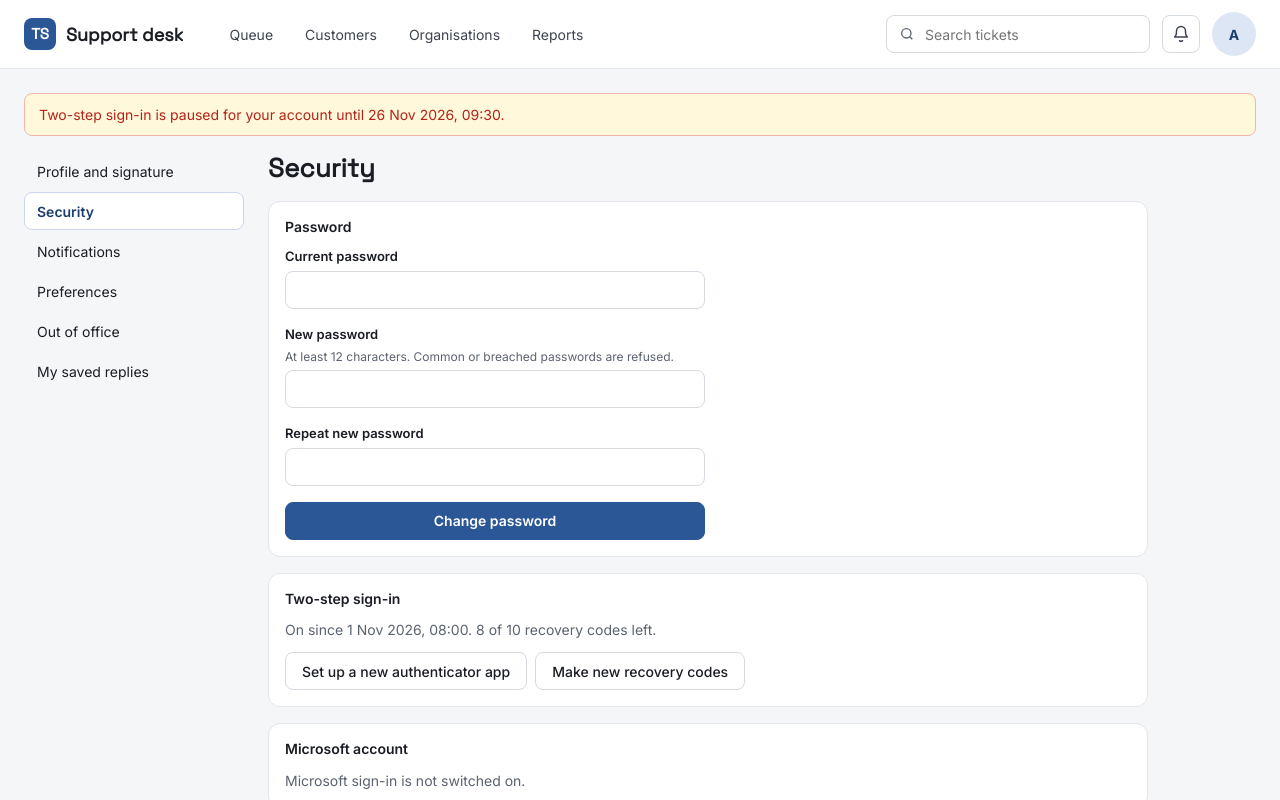
Test case: two-step sign-in › switches the step-up to a code when the pause ended while the dialog was open
Click the button "Make new recovery codes".
click(640, 671)  # box 535,652 -> 745,690
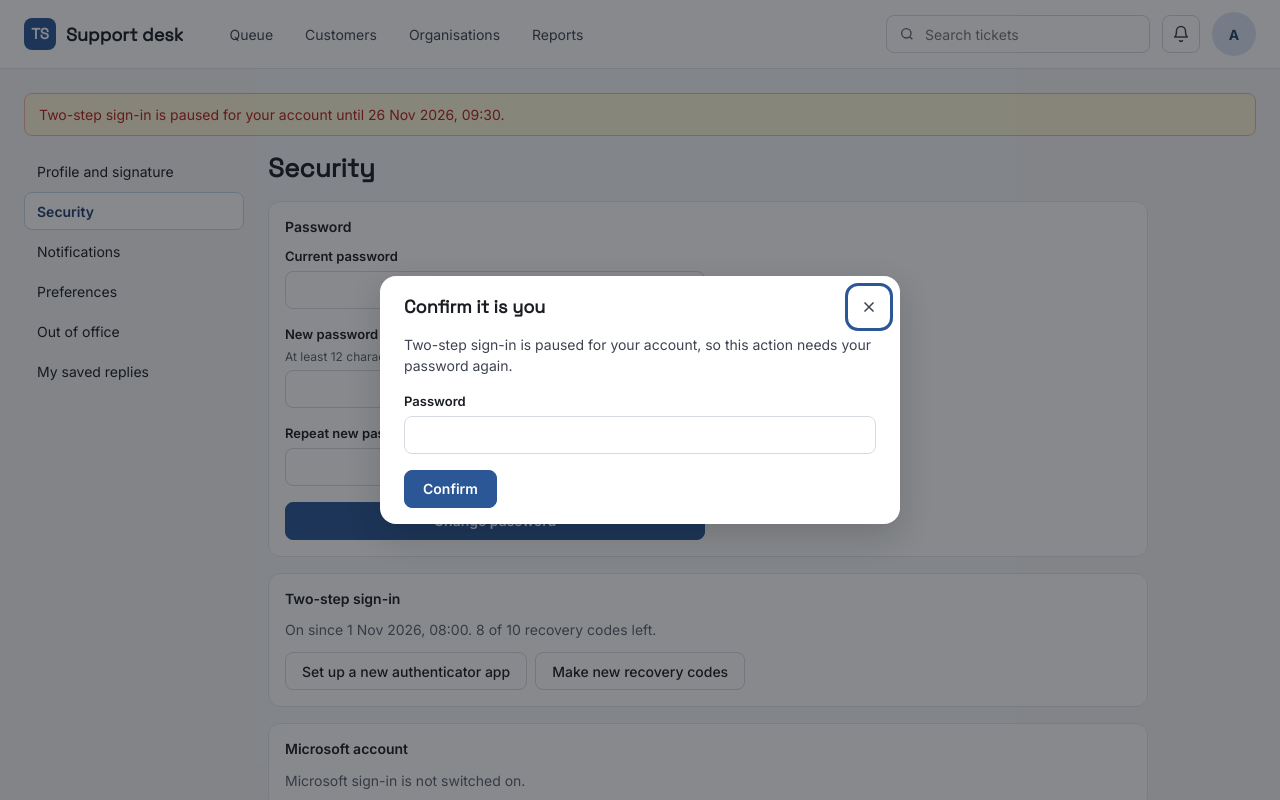
Type "Violet-Tractor-Sundial-42" into the password field labelled "Password".
click(640, 435); type("Violet-Tractor-Sundial-42")  # box 404,416 -> 876,454
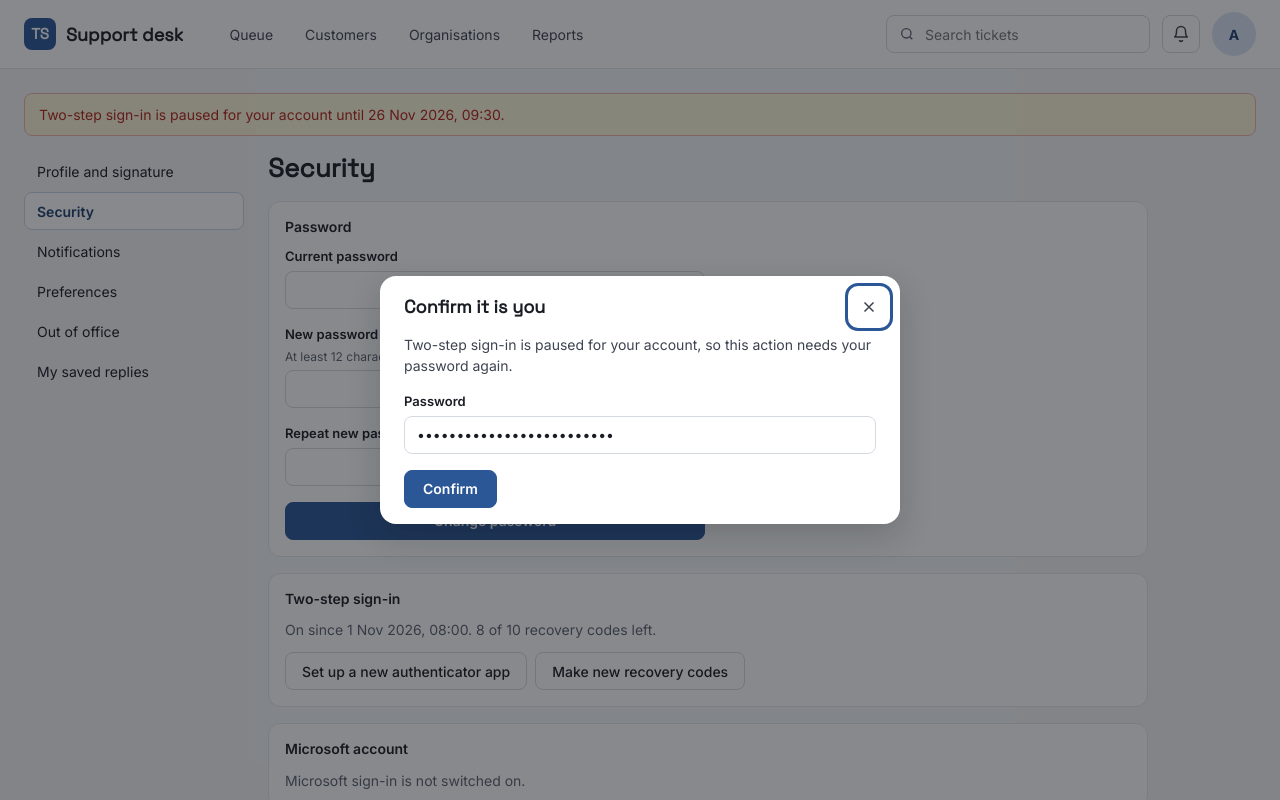
Click the button "Confirm".
click(450, 489)  # box 404,470 -> 497,508
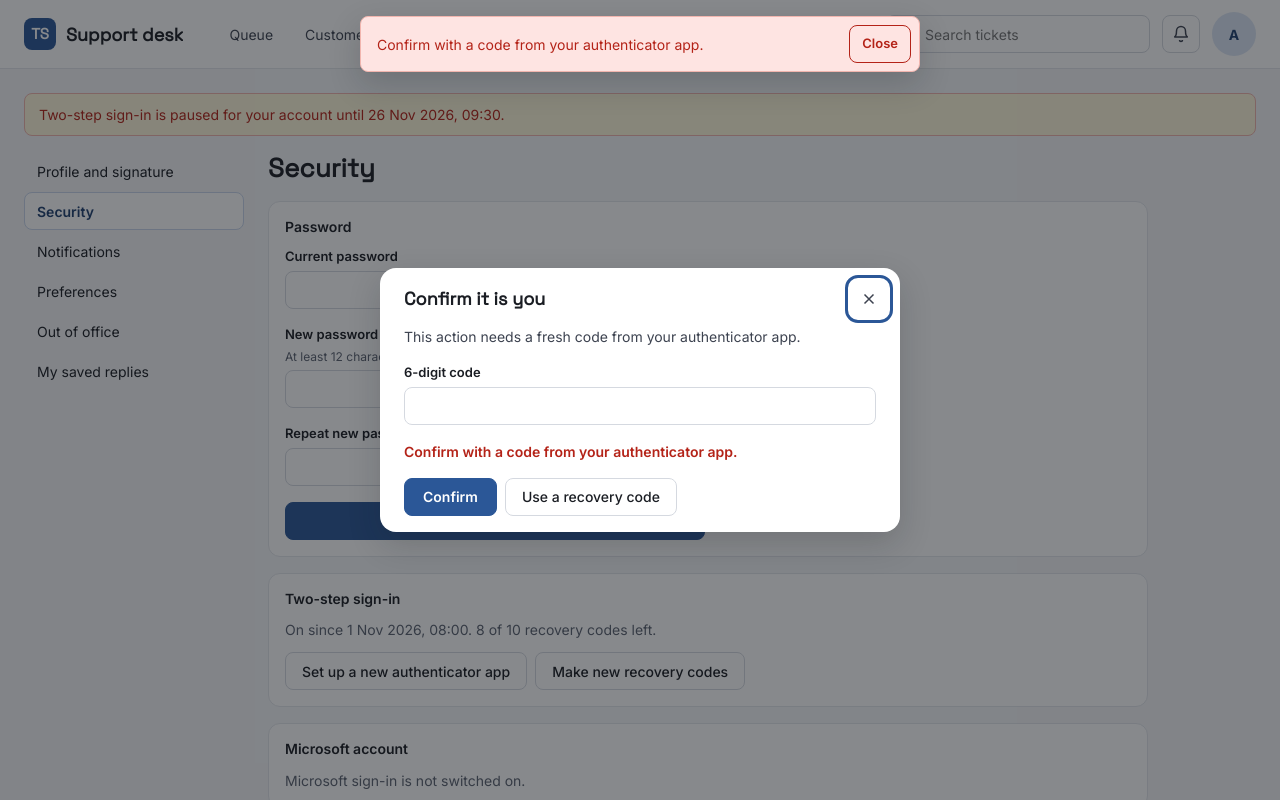
Now the field labelled "6-digit code" is shown, box 404,387 -> 876,425
Now the text "Confirm with a code from your authenticator app." is shown, box 404,443 -> 738,460
Now the button "Use a recovery code" is shown, box 505,478 -> 677,516
